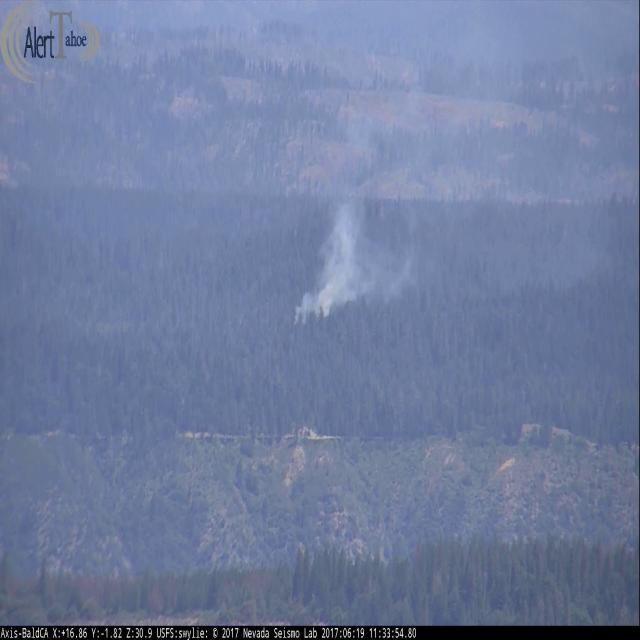smoke: (284, 96, 448, 339)
